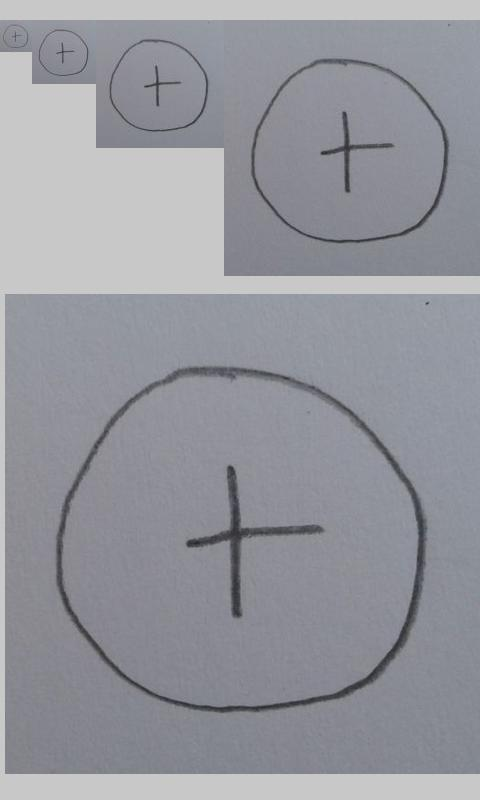button: (53, 362, 429, 714), (251, 57, 450, 245), (109, 38, 210, 133), (38, 28, 90, 77), (2, 24, 29, 49)
